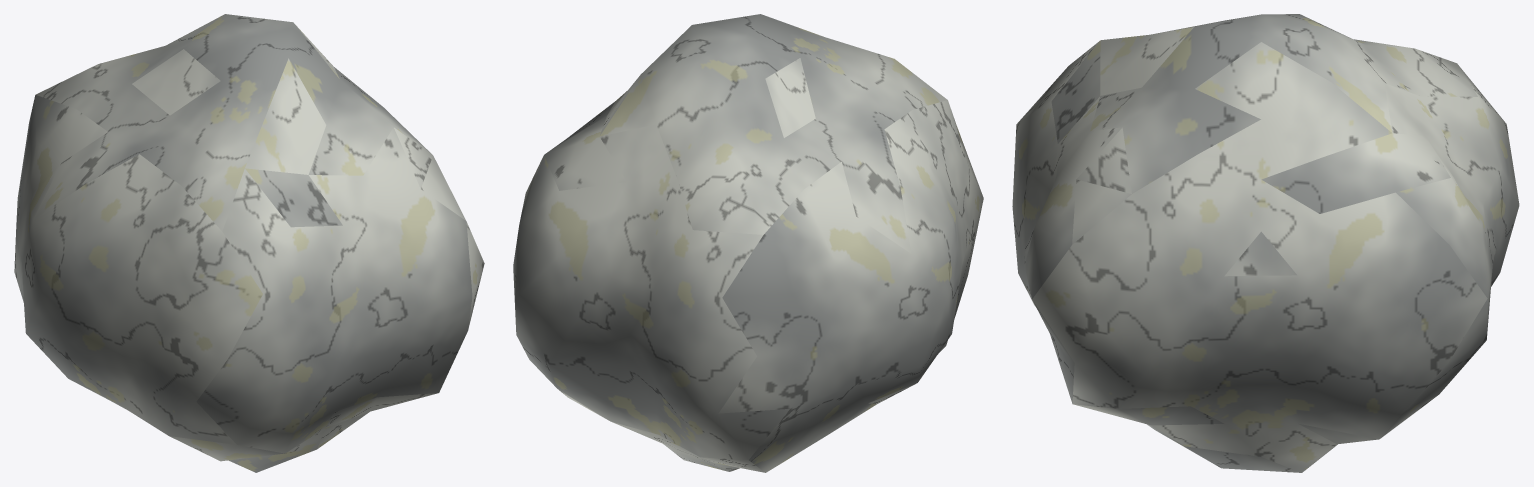
File: rock1.glb
The picture shows the model from 3 angles, left to right: view 1: azimuth 30°, elevation 25°; view 2: azimuth 150°, elevation 25°; view 3: azimuth 270°, elevation 25°; orthographic projection. The views are drawn at different scales.
Parts seen in each view (by area): view 1: rock1; view 2: rock1; view 3: rock1.
Part boxes in pixels (x1,y1,x2,y2): rock1: [14, 14, 484, 472]; rock1: [513, 14, 983, 472]; rock1: [1012, 14, 1519, 472].
Size of the model in its own units: 0.8188 by 0.8659 by 0.9015.
Materials: 1 (1 with a texture image).
